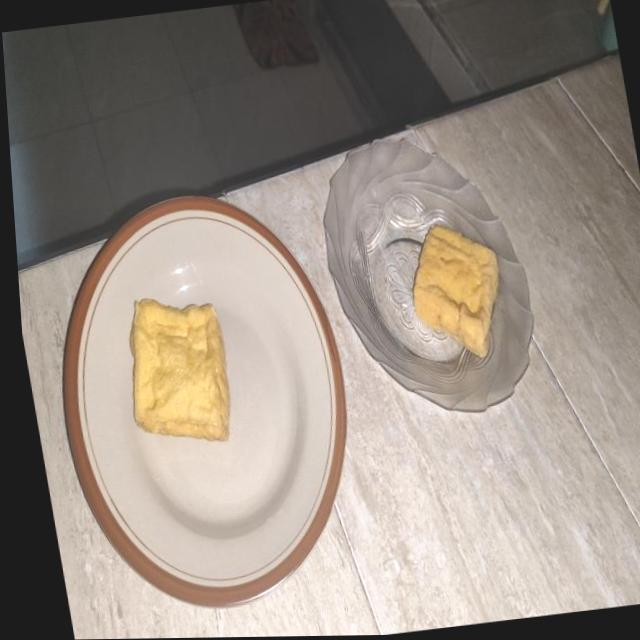tahu_goreng: (130, 298, 230, 439), (413, 224, 498, 356)
